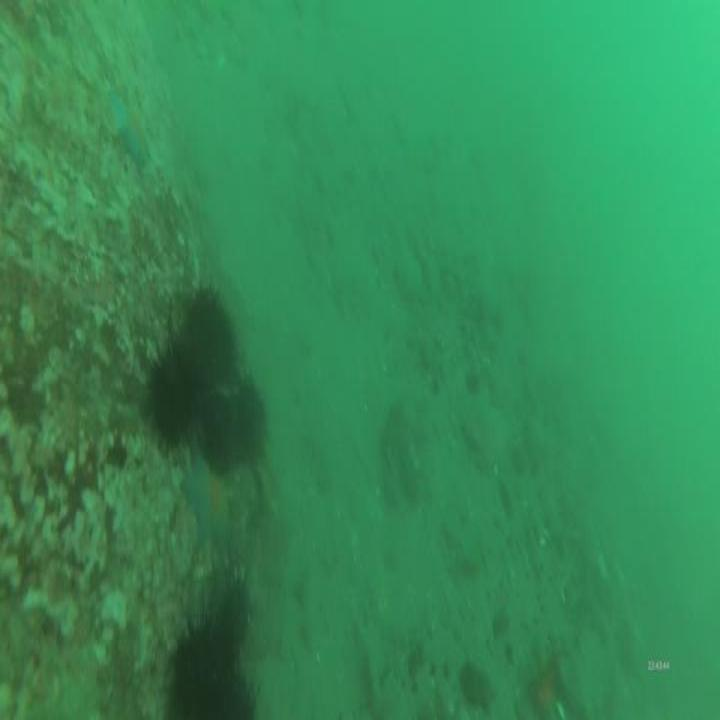echinus: (180, 286, 243, 409), (141, 338, 198, 459), (168, 613, 232, 720), (228, 379, 269, 471), (195, 386, 235, 474), (206, 654, 258, 720), (458, 652, 496, 716)
starfish: (181, 452, 240, 564), (106, 85, 156, 178)
